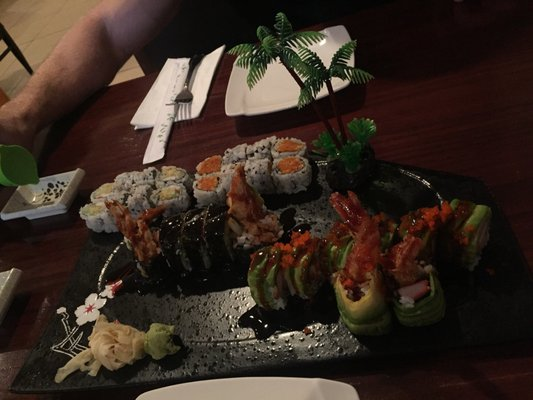sandwich: (143, 55, 193, 166)
